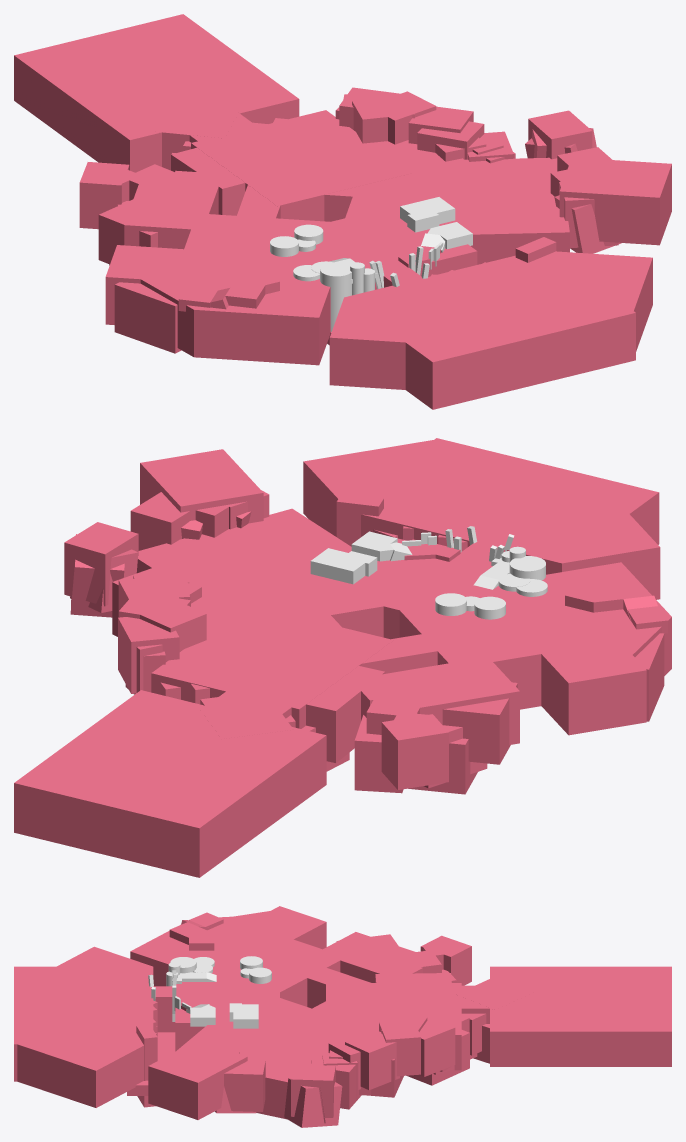
The model's file is Blockout.fbx.
The picture shows the model from 3 angles, top to bottom: view 1: azimuth 30°, elevation 25°; view 2: azimuth 150°, elevation 25°; view 3: azimuth 270°, elevation 25°; orthographic projection. The views are drawn at different scales.
Visible parts, largest first — view 1: Ground, Ground__15_, Ground__5_, Ground__6_, Ground__10_, Ground__19_, Ground__16_, Ground__11_, Ground__12_, Ground__44_, Ground__17_, Ground__54_ (+28 smaller); view 2: Ground__15_, Ground, Ground__5_, Ground__6_, Ground__11_, Ground__49_, Ground__16_, Ground__17_, Ground__19_, Ground__44_, Ground__12_, Ground__58_ (+30 smaller); view 3: Ground__15_, Ground, Ground__17_, Ground__5_, Ground__6_, Ground__19_, Ground__11_, Ground__12_, Ground__10_, Ground__49_, Ground__25_, Ground__44_ (+31 smaller).
Part boxes in pixels (x1,y1,x2,y2): Ground: [344, 252, 635, 409]; Ground__15_: [14, 14, 299, 172]; Ground__5_: [368, 157, 569, 264]; Ground__6_: [191, 110, 411, 221]; Ground__10_: [194, 270, 330, 365]; Ground__19_: [559, 157, 671, 245]; Ground__16_: [329, 297, 468, 389]; Ground__11_: [174, 214, 355, 282]; Ground__12_: [248, 202, 477, 331]; Ground__44_: [124, 171, 221, 249]; Ground__17_: [546, 251, 652, 351]; Ground__54_: [114, 282, 181, 353]; Ground__15_: [14, 690, 326, 877]; Ground: [358, 438, 659, 574]; Ground__5_: [136, 508, 408, 616]; Ground__6_: [151, 604, 393, 728]; Ground__11_: [390, 580, 600, 709]; Ground__49_: [537, 636, 646, 735]; Ground__16_: [512, 493, 660, 599]; Ground__17_: [303, 439, 476, 536]; Ground__19_: [140, 449, 263, 523]; Ground__44_: [369, 657, 519, 744]; Ground__12_: [356, 538, 563, 639]; Ground__58_: [381, 714, 448, 789]; Ground__15_: [490, 966, 671, 1066]; Ground: [14, 966, 153, 1081]; Ground__17_: [16, 1020, 143, 1107]; Ground__5_: [177, 1009, 350, 1119]; Ground__6_: [326, 983, 461, 1070]; Ground__19_: [148, 1040, 247, 1119]; Ground__11_: [199, 927, 345, 1006]; Ground__12_: [175, 960, 279, 1051]; Ground__10_: [130, 924, 250, 986]; Ground__49_: [241, 906, 326, 949]; Ground__25_: [345, 1030, 399, 1090]; Ground__44_: [318, 932, 434, 973].
Size of the model in its own units: 26123 by 5071 by 36868.
